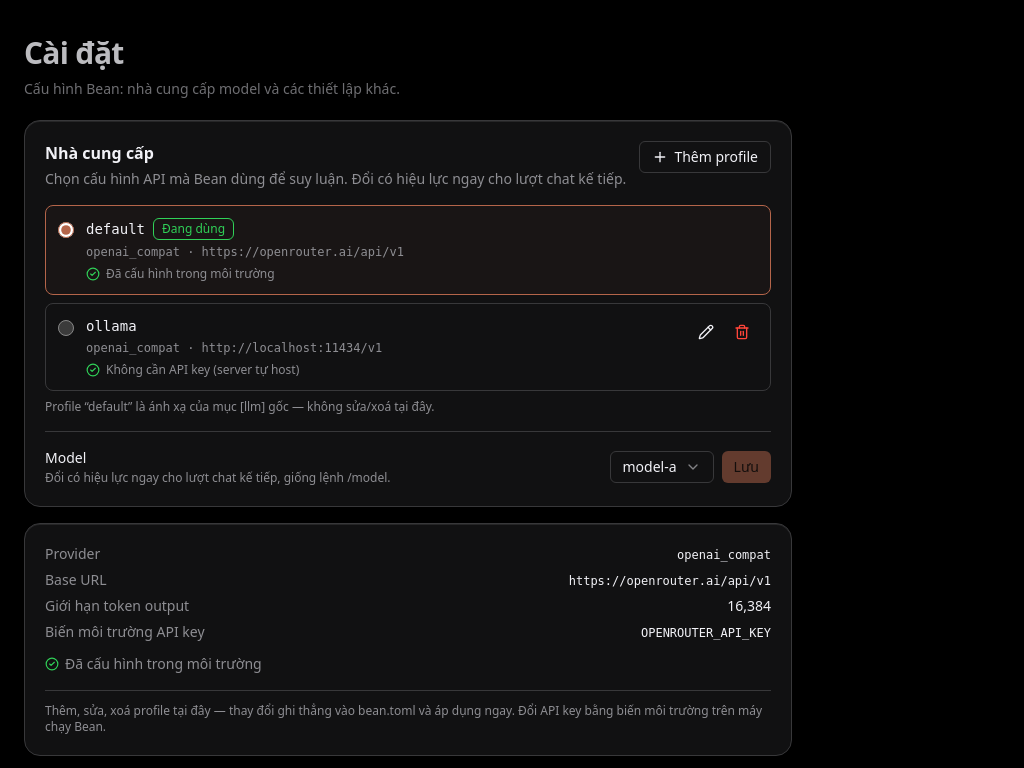
Scenario: SettingsPage — Providers › chọn profile kèm model khác: PUT /provider gửi cả model
The width and height of the screenshot is (1024, 768).
Expected: the element named "Nhà cung cấp" is shown, [45,205,771,391]
Click the radio button labelled "ollama" at coordinates (66, 328), box [58,320,74,336]
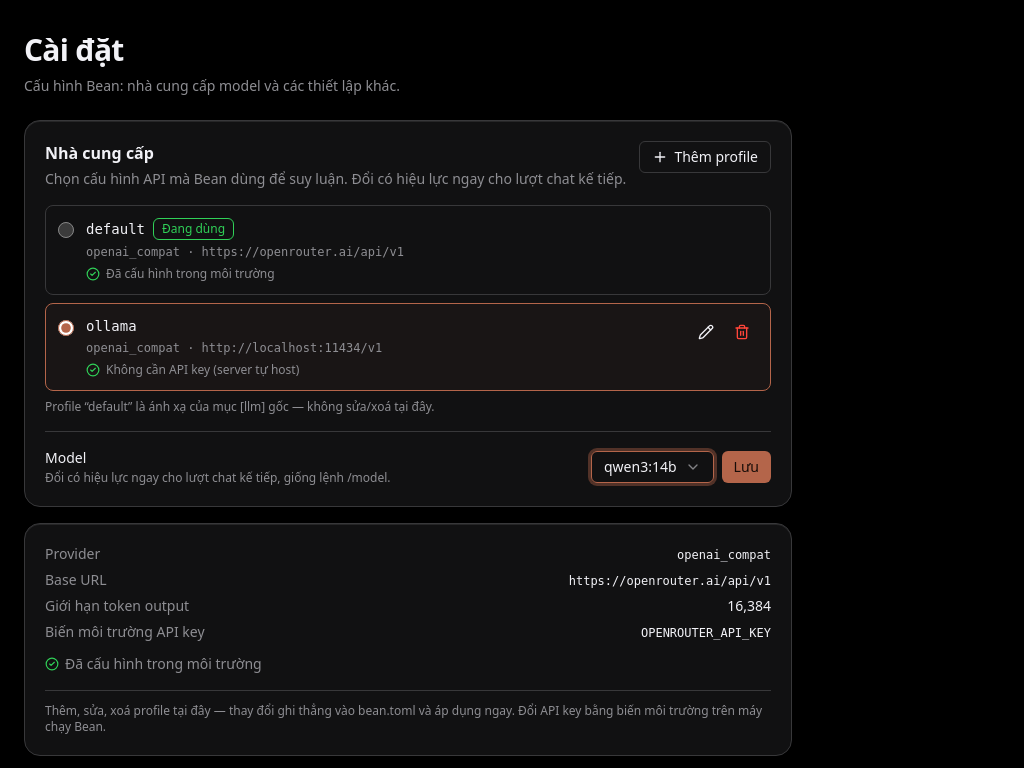
Press Enter
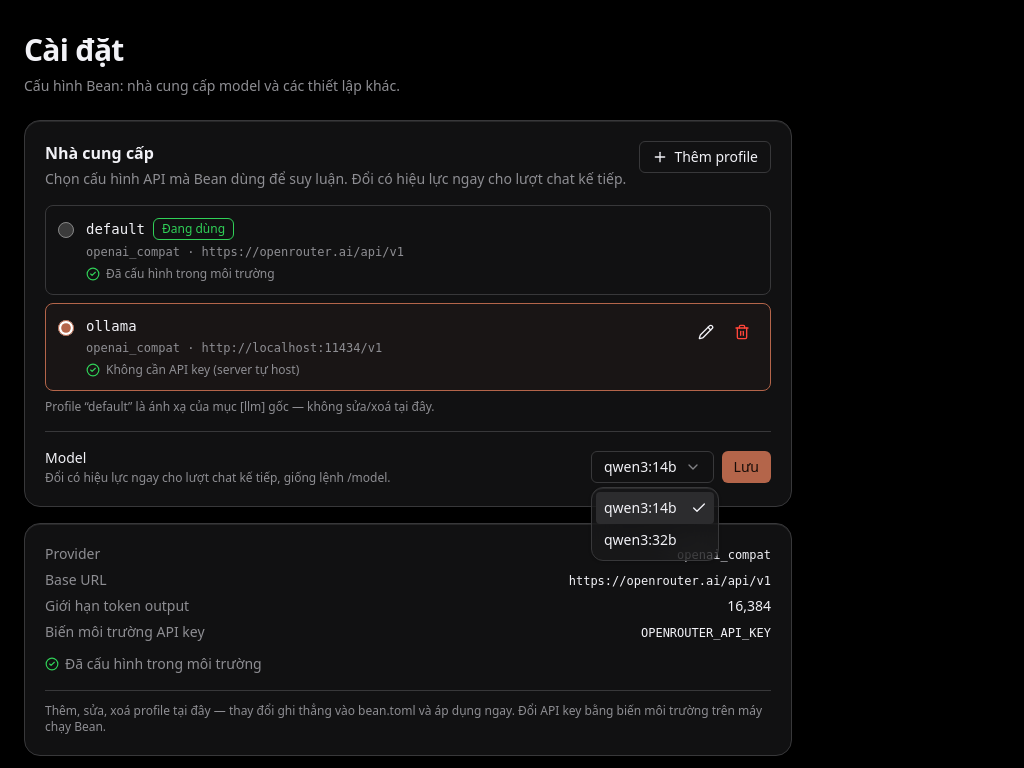
Now the option "qwen3:32b" is shown
Click the option "qwen3:32b" at coordinates (640, 540), box [604,530,677,549]
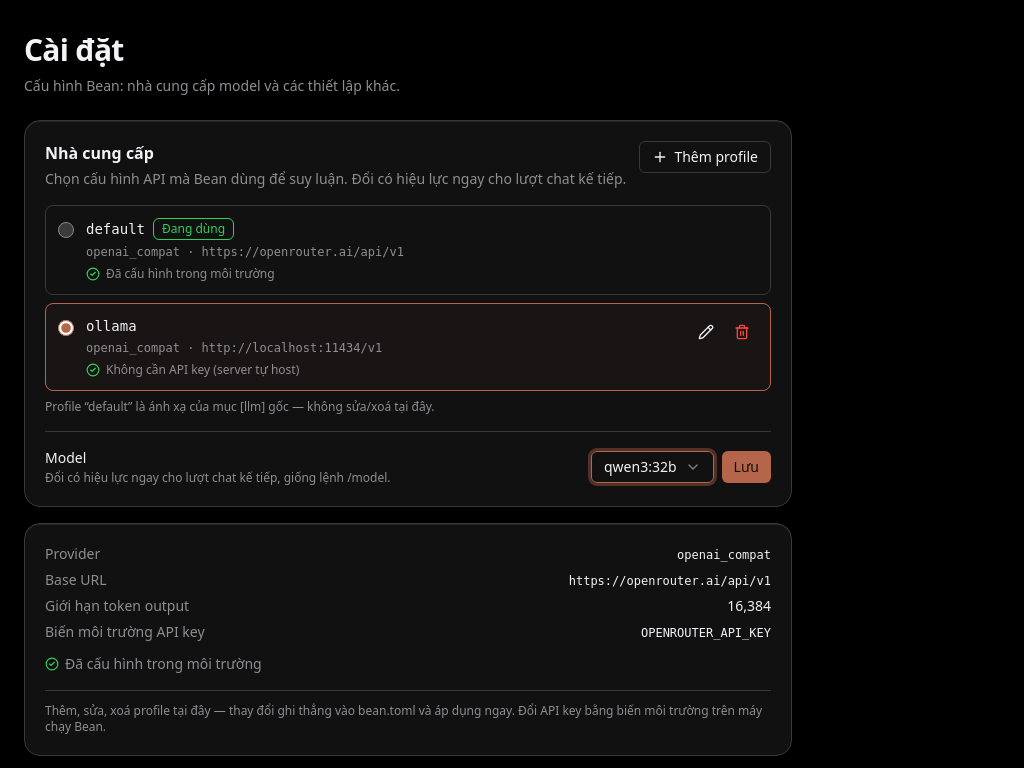
Click the button "Lưu" at coordinates (746, 467), box [722,451,771,483]
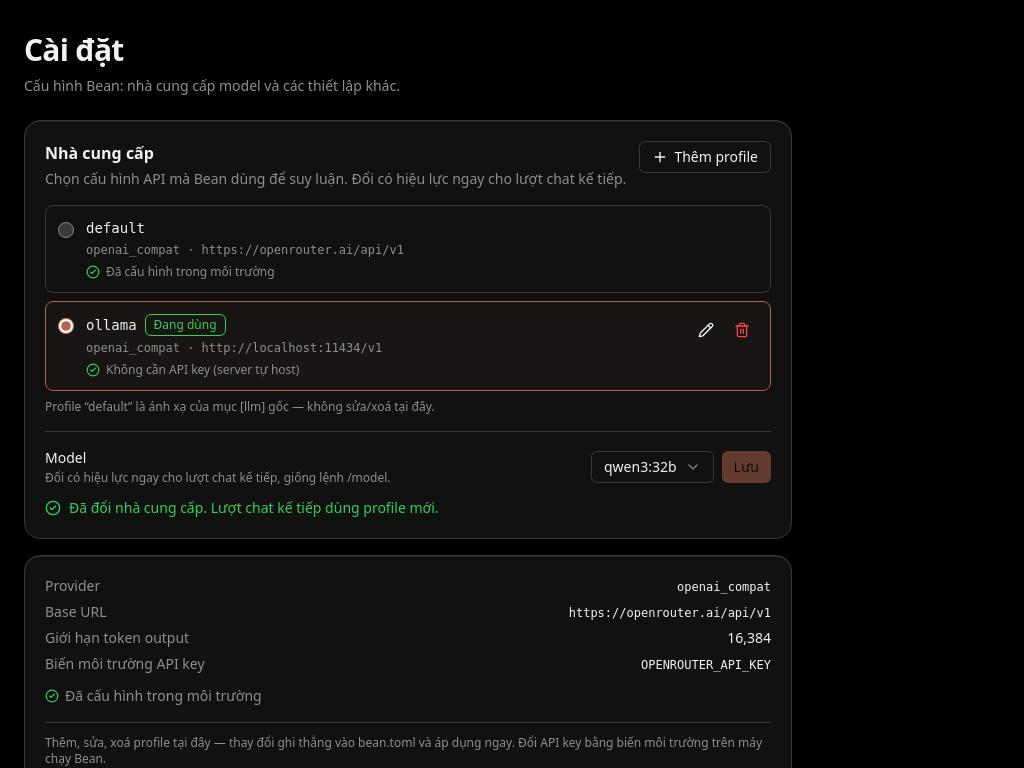
Now the message "Đã đổi nhà cung cấp. Lượt chat kế tiếp dùng profile mới." is shown, box [45,498,438,517]
